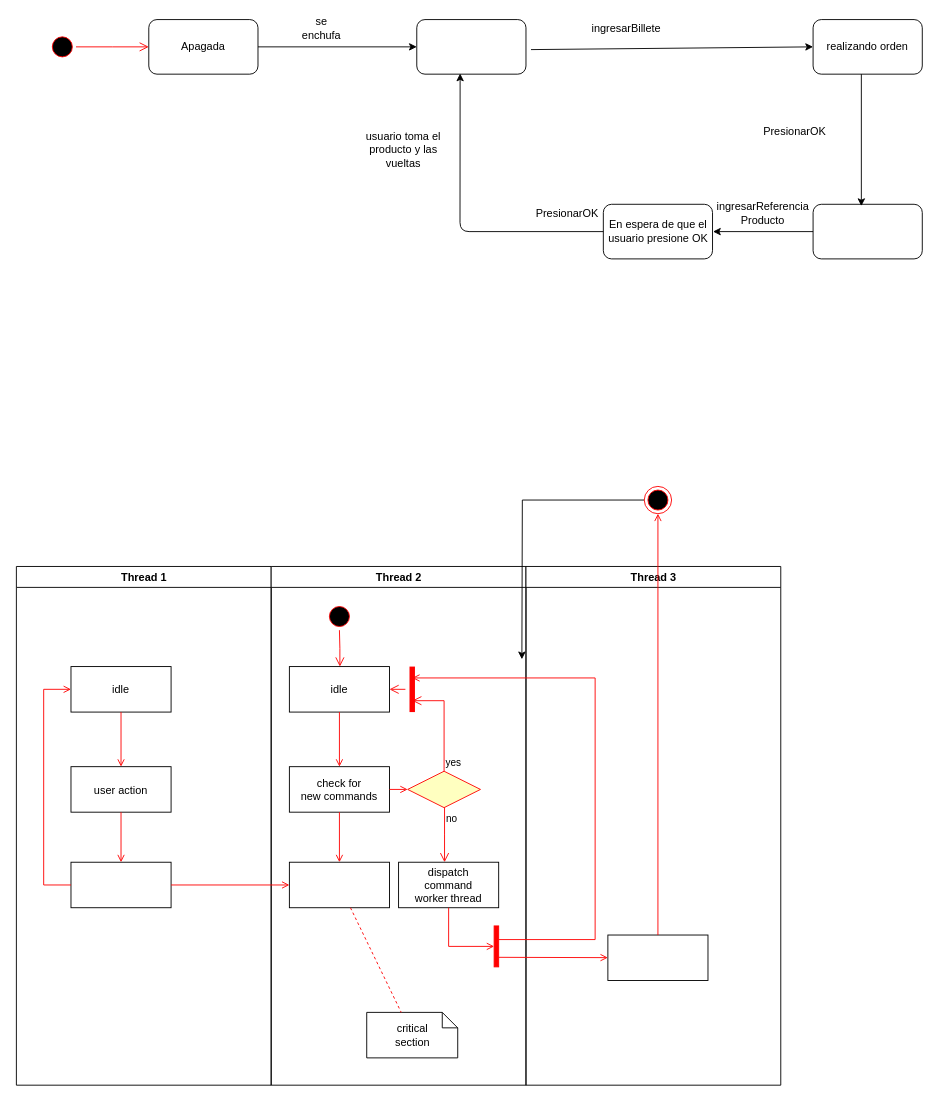
Some shapes in this 938 by 1101 pixel diagram are drawn without their labels. The shapes that lost their labels are listed below. From the top down, each one's centre as x and y in pixels, then its label:
(x=471, y=46): Encendida
(x=867, y=231): En espera de que el usuario ingrese la referencia del producto
(x=443, y=789): queue empty
(x=120, y=884): post command
(x=338, y=884): command queue
(x=657, y=957): process command
